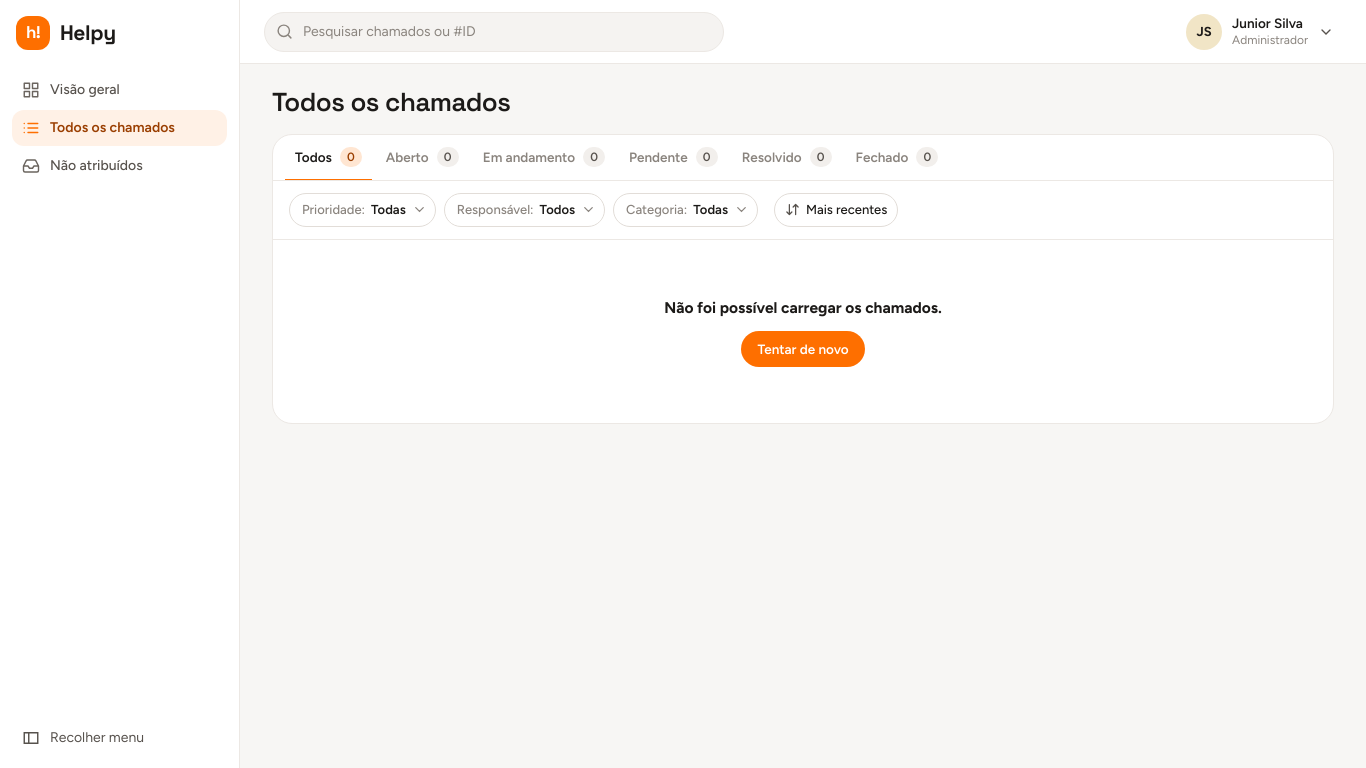
Test: ticket list page › shows a loading state and, on API failure, an error with "Tentar de novo" that refetches
The image size is (1366, 768).
Expected: the text "Não foi possível carregar os chamados." is shown, top-left (664, 296), bottom-right (942, 319)
Click the button "Tentar de novo".
click(803, 349)  # box top-left (741, 331), bottom-right (865, 367)
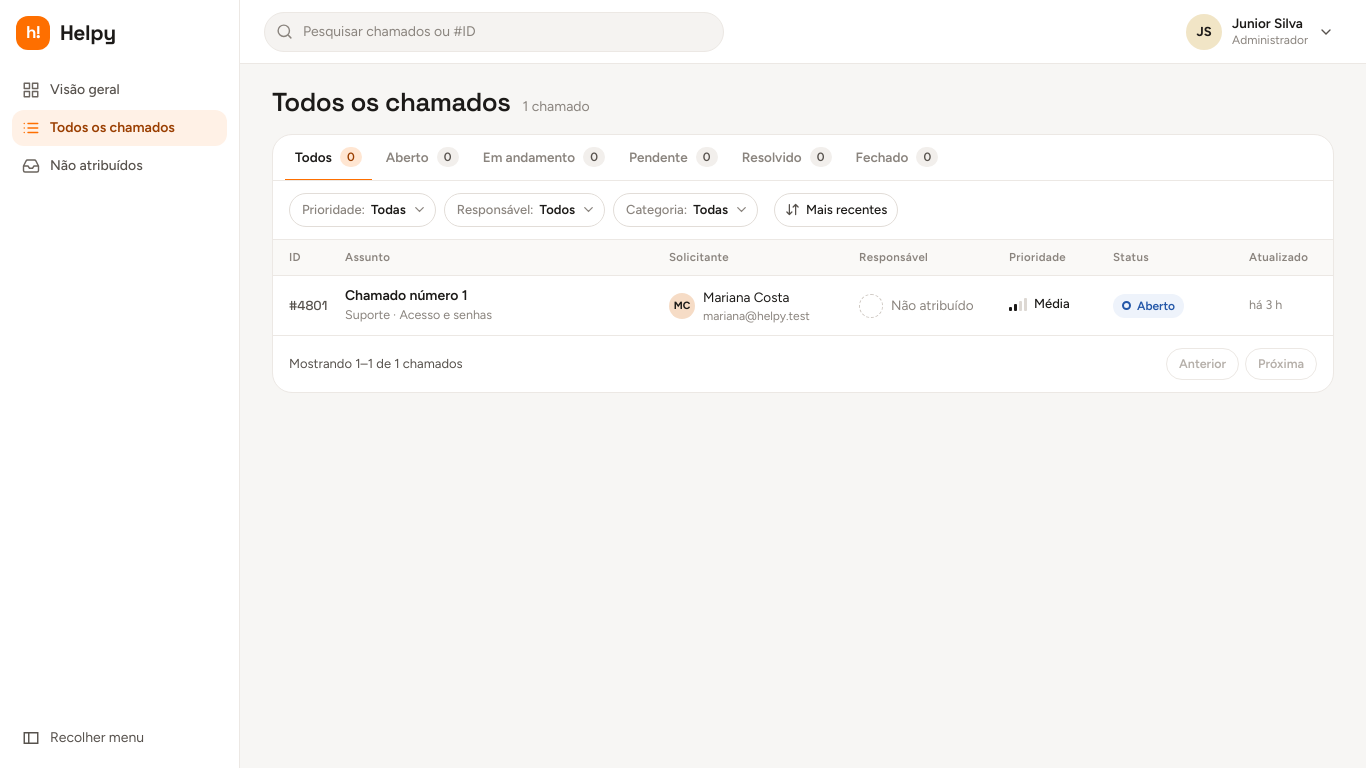
Now the link "Chamado número 1" is shown, box top-left (345, 287), bottom-right (468, 304)
